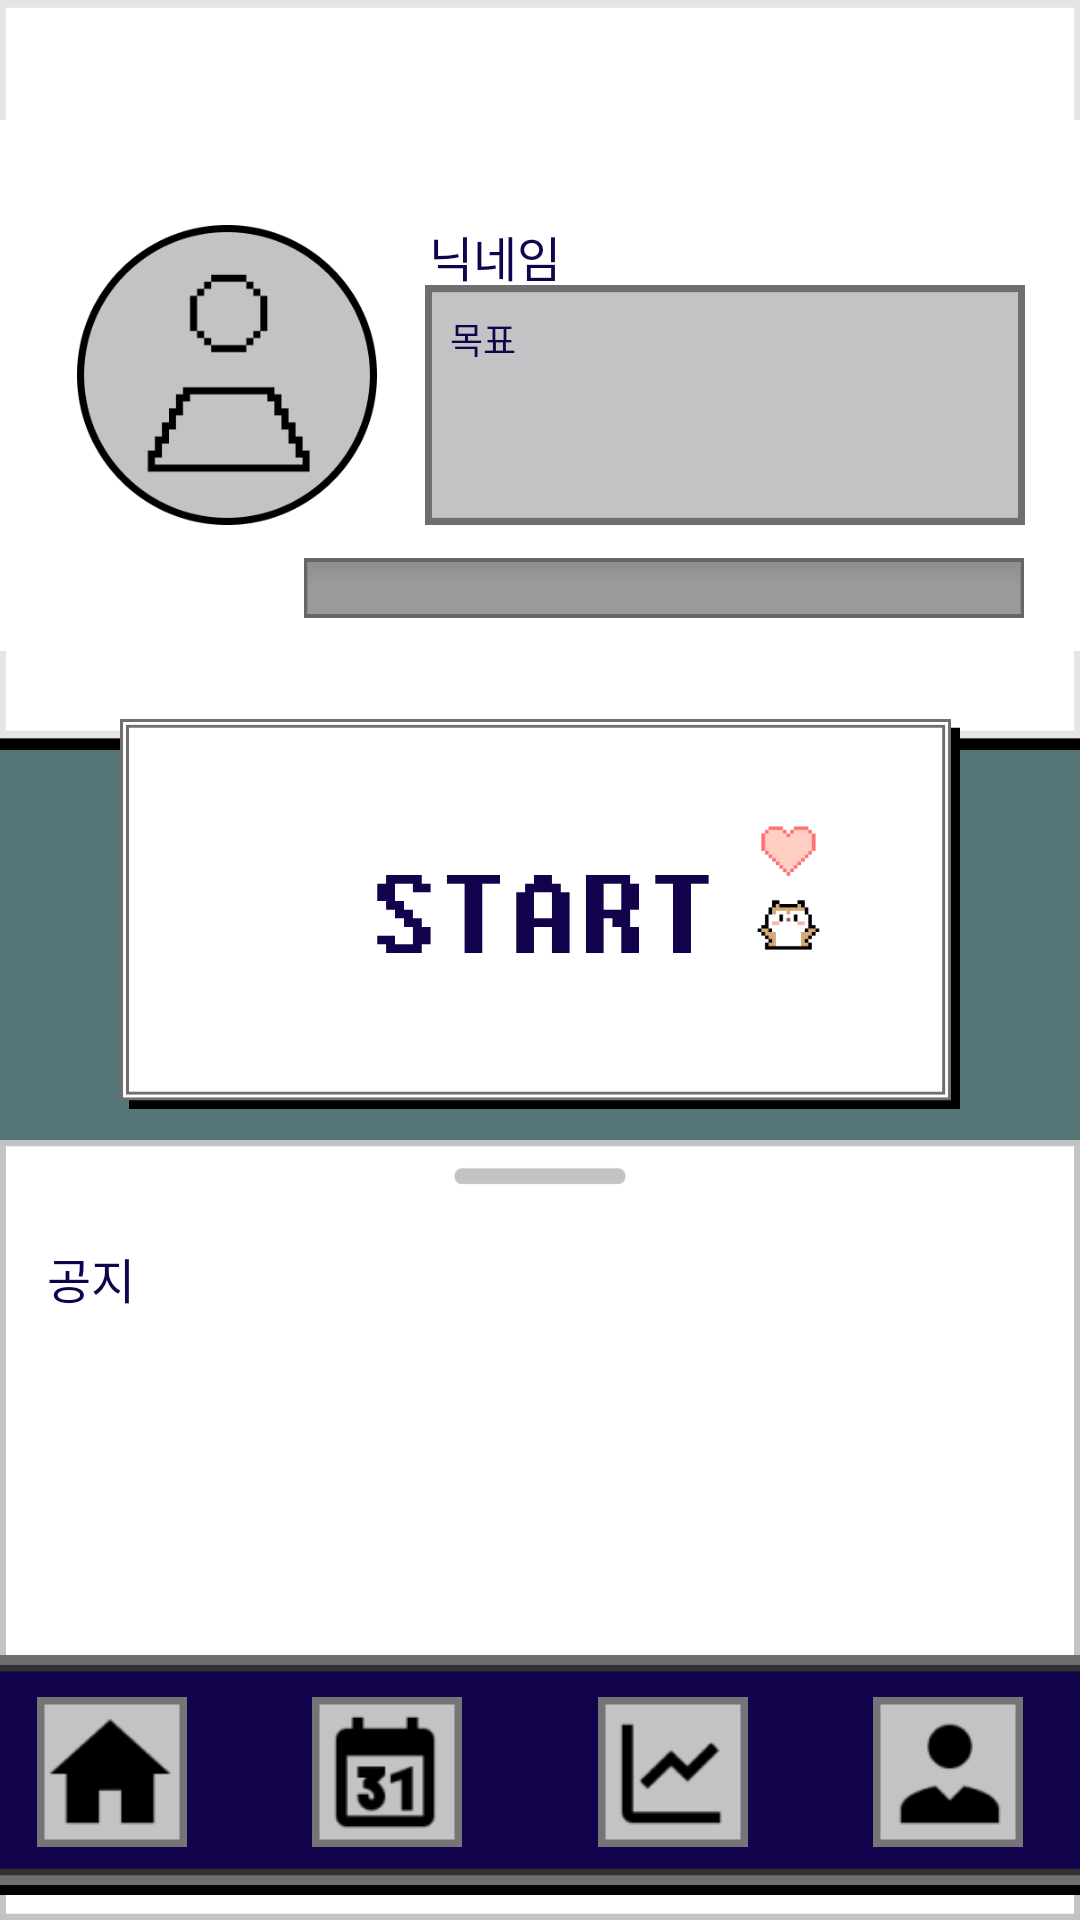

Where icons sit on this 1080px×1920px app screen, as (x1=x1, y1=y1, x2=x2, y2=y2):
faceimage: (x1=77, y1=225, x2=377, y2=525)
toanaly: (x1=598, y1=1697, x2=748, y2=1847)
tocalen: (x1=312, y1=1697, x2=462, y2=1847)
tohome: (x1=37, y1=1697, x2=187, y2=1847)
touser: (x1=873, y1=1697, x2=1023, y2=1847)
